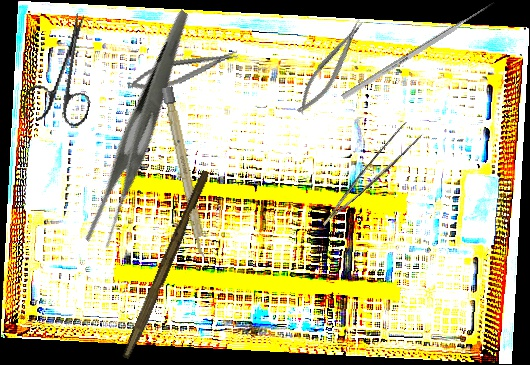Dressing Forceps: (31, 9, 254, 254)
Iris Scissors: (20, 5, 111, 132)
Needle Holder: (289, 16, 373, 119), (124, 45, 242, 97)
Pusher: (341, 0, 496, 100)
Scalpel Handle: (121, 168, 212, 362), (161, 86, 209, 259)
Tissue Forceps: (307, 117, 428, 227)
